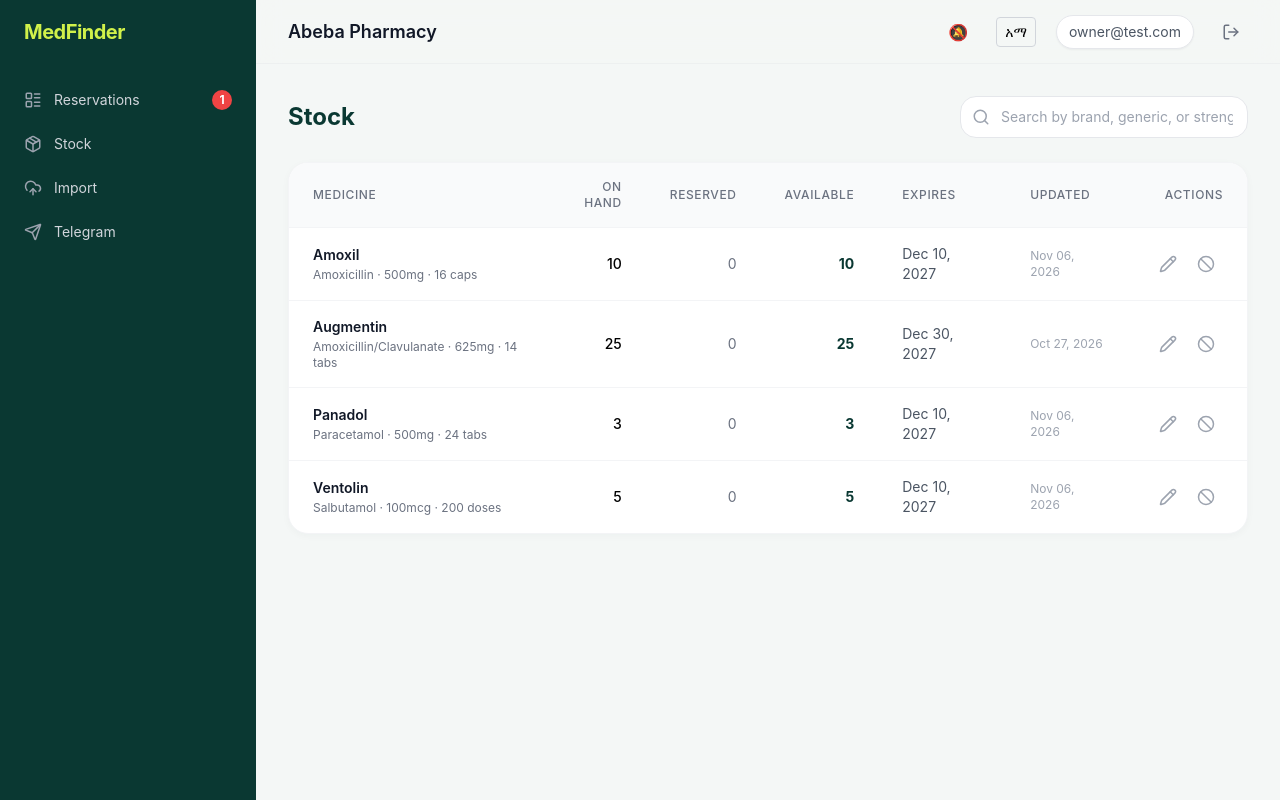
StockPage › shows an inline error when the server rejects with BELOW_RESERVED
Expected: the text "Amoxil" is shown, [313,246,359,263]
Click the button named "edit" in the row of "Amoxil": (1168,264) [1151,247,1185,281]
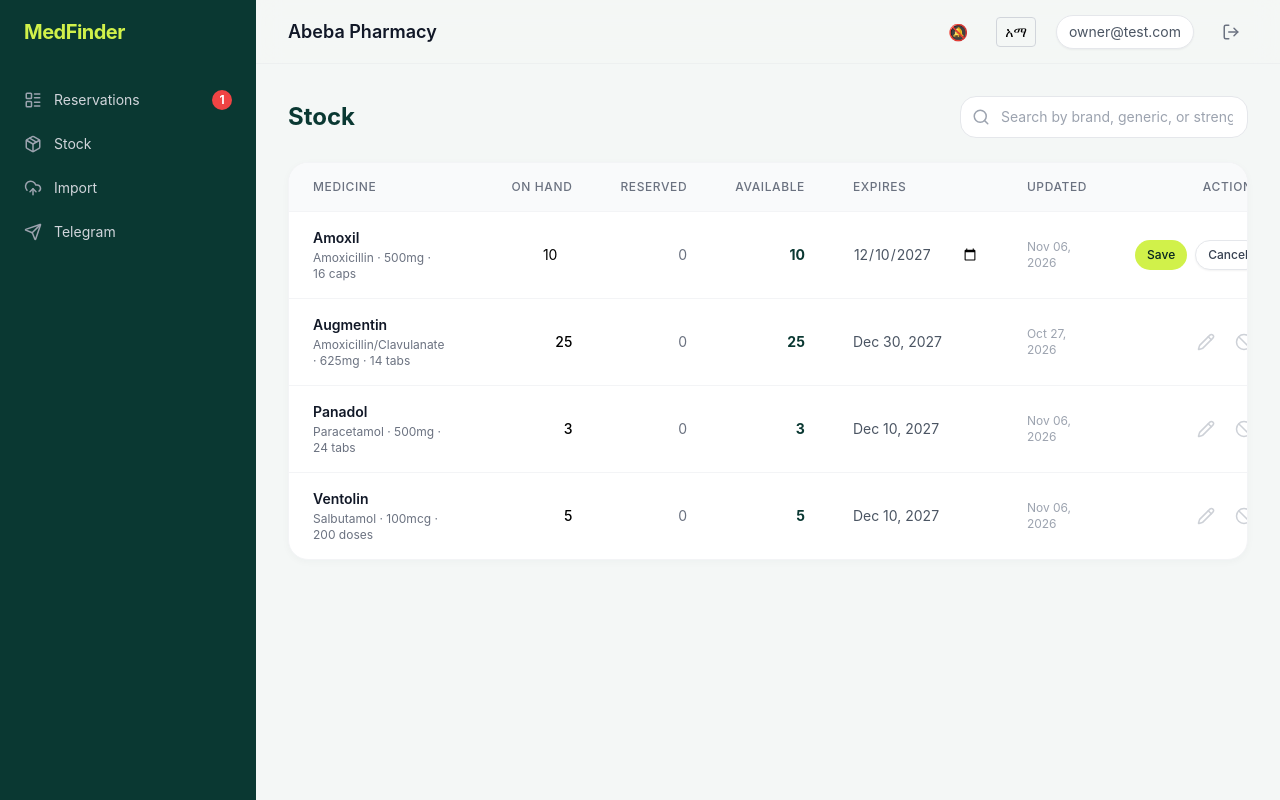
Replace the text in the number field showing "10" with "2": (532,255) [492,245,572,265]
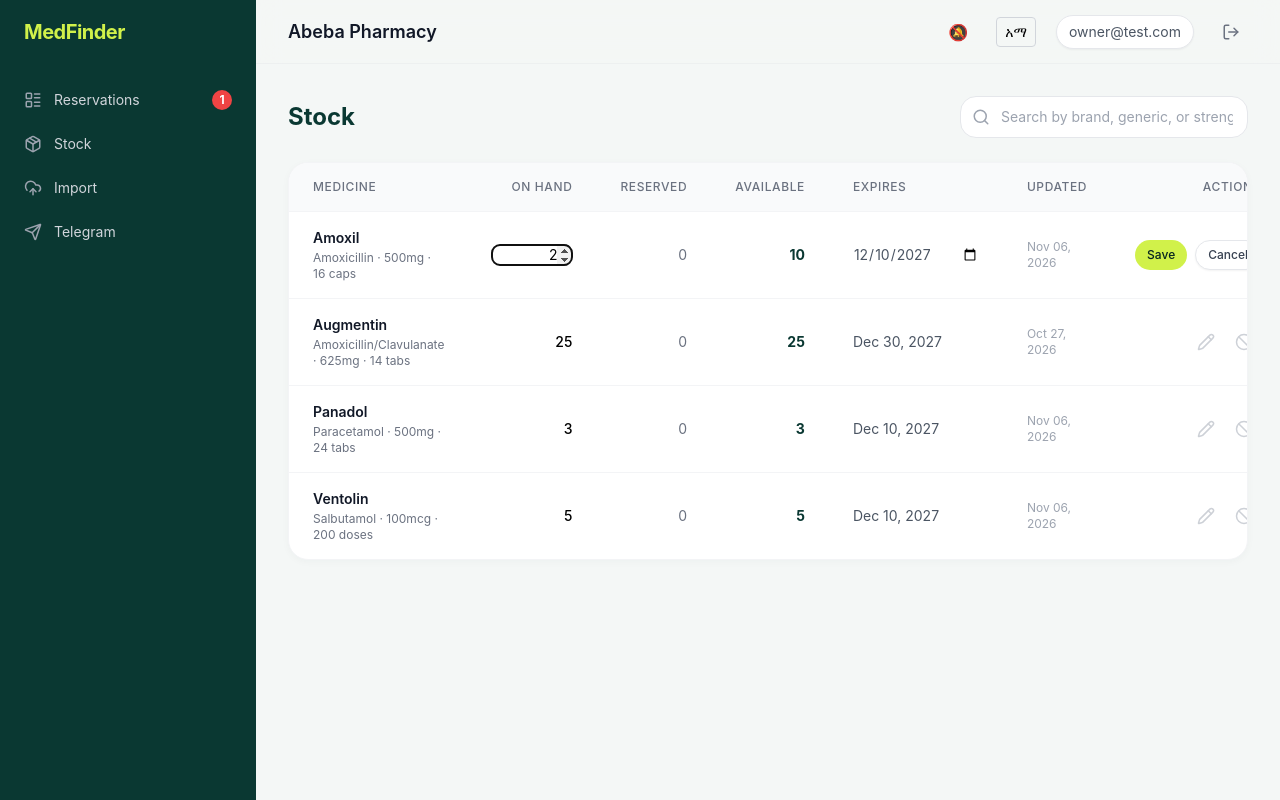
Click the button "Save": (1161,255) [1135,240,1187,270]
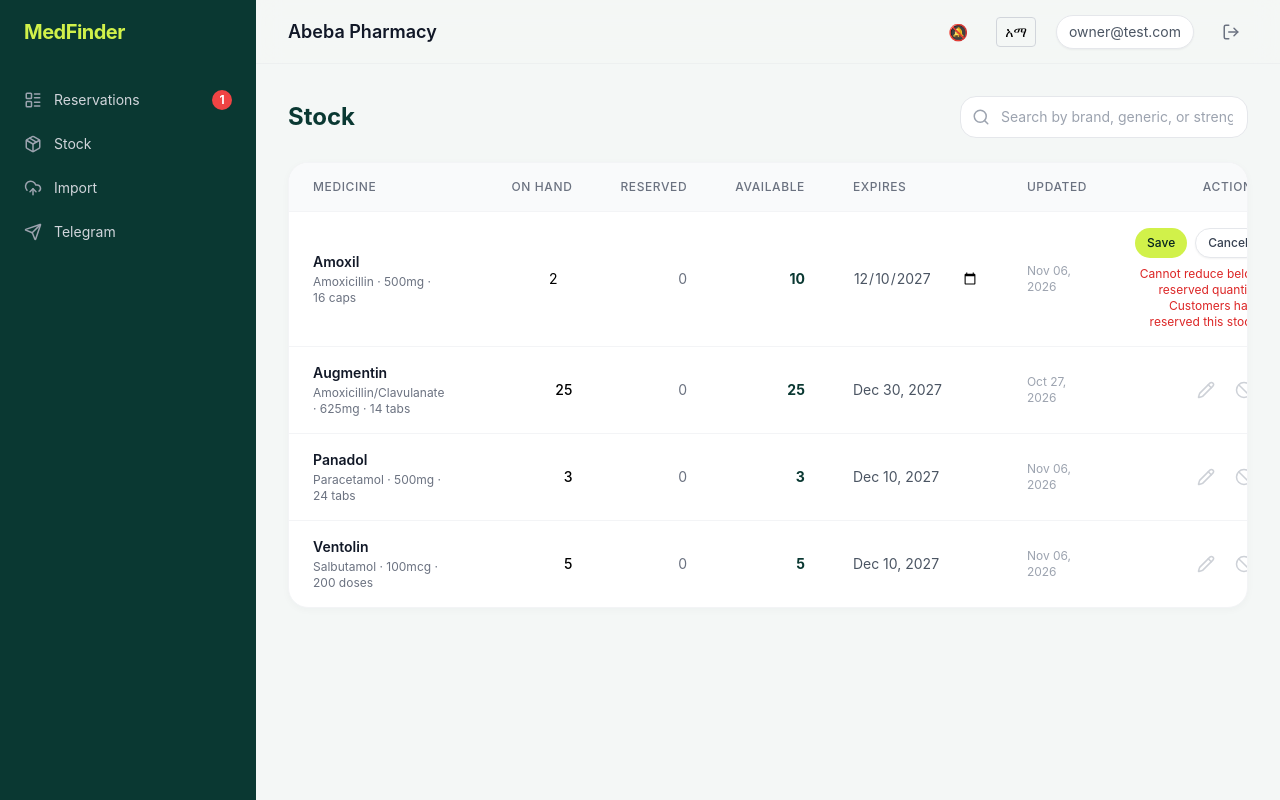
Result: the text "Cannot reduce below reserved" is shown at [1140,266,1247,329]
